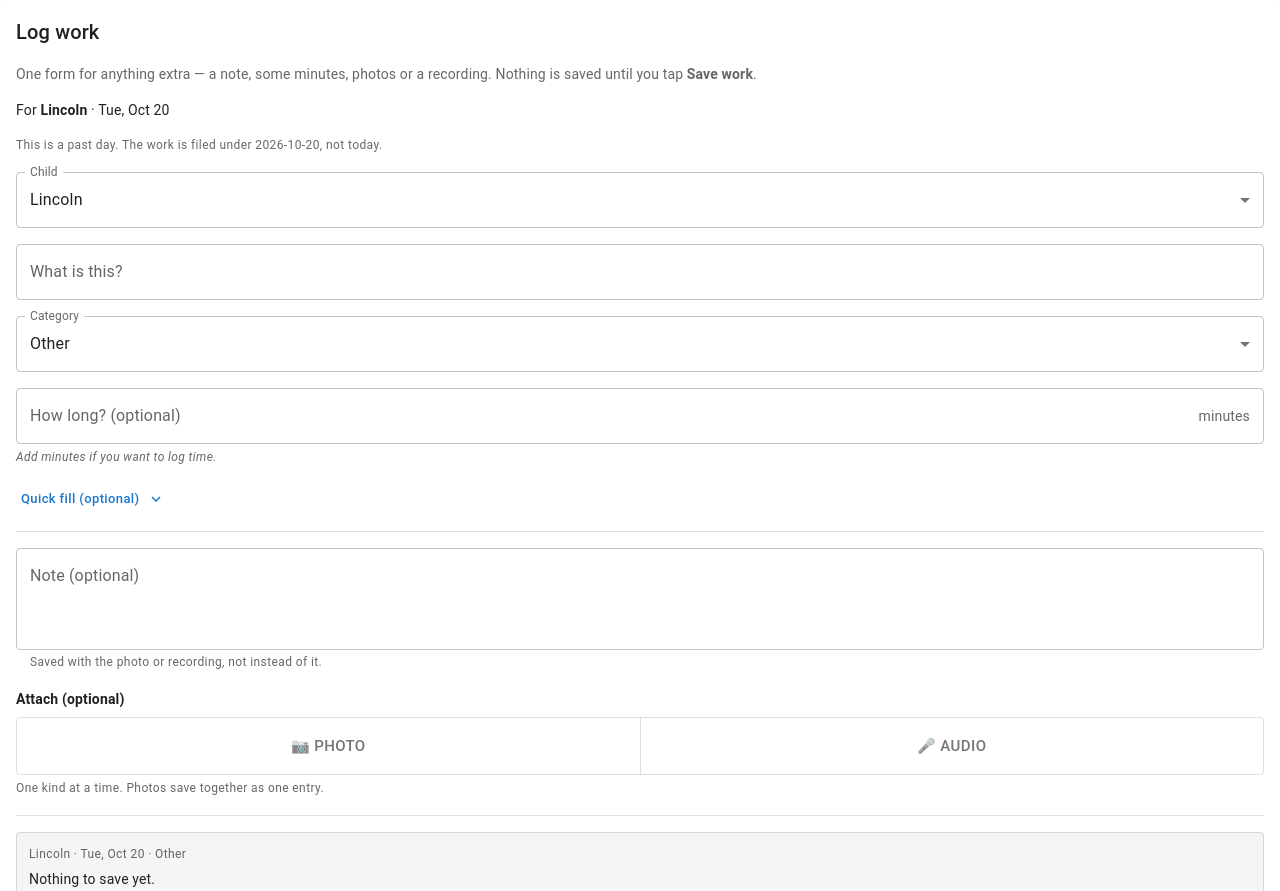
Scenario: UnifiedCaptureCard — filing ordinary extra work (FIX-266) › names no second category — one option per stored bucket, no more
Press the mouse on the dropdown named "Category" at (50, 344), box [30, 334, 70, 353]
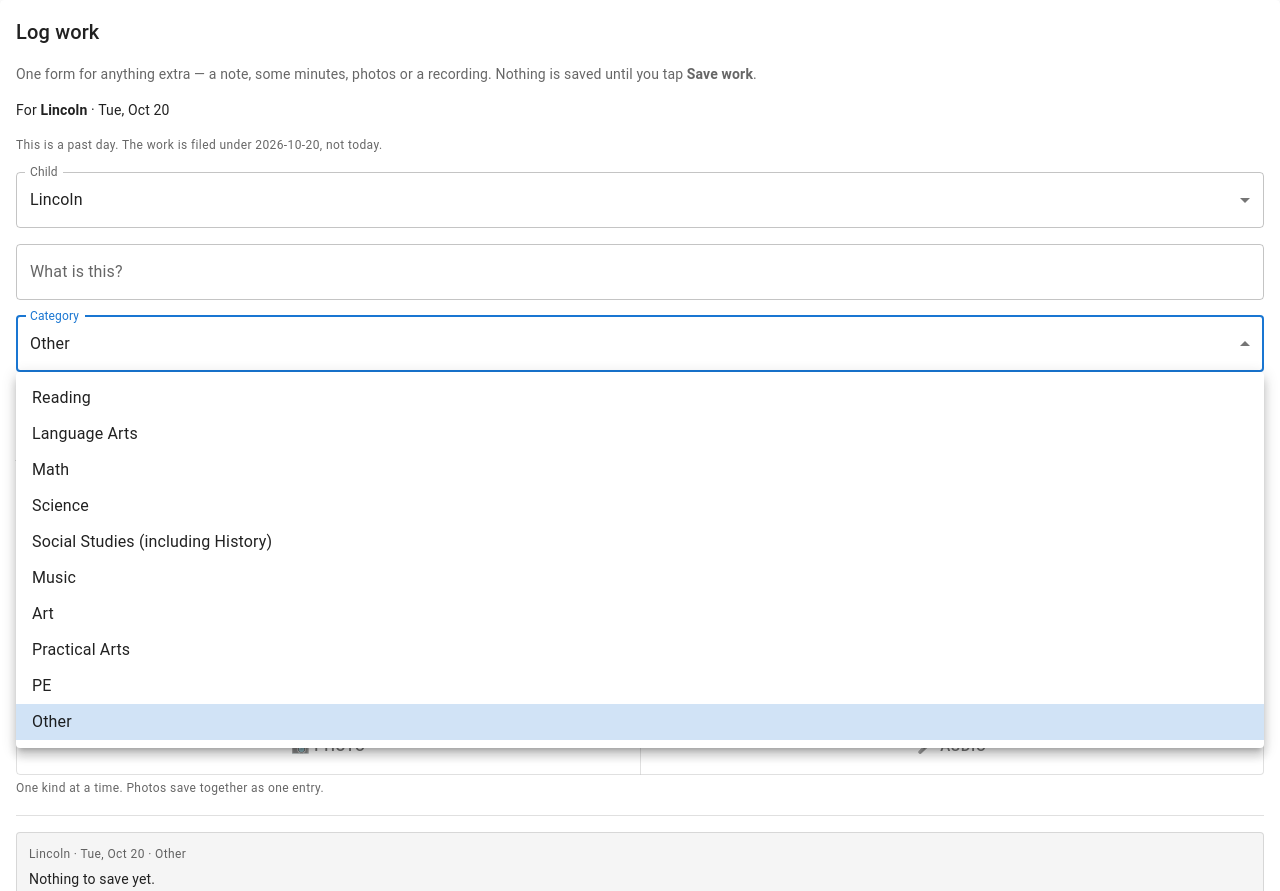
Expected: the number of options is 10
Expected: the option "Social Studies (including History)" is shown, [32, 532, 272, 551]
